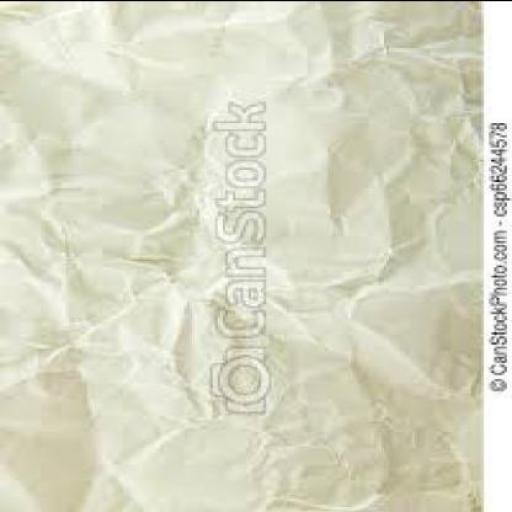paper: (0, 1, 481, 511)
